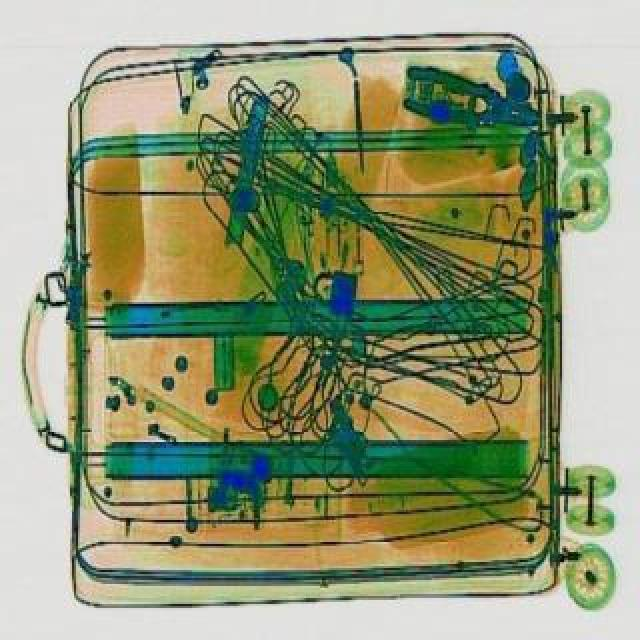wrench: (392, 58, 546, 138)
